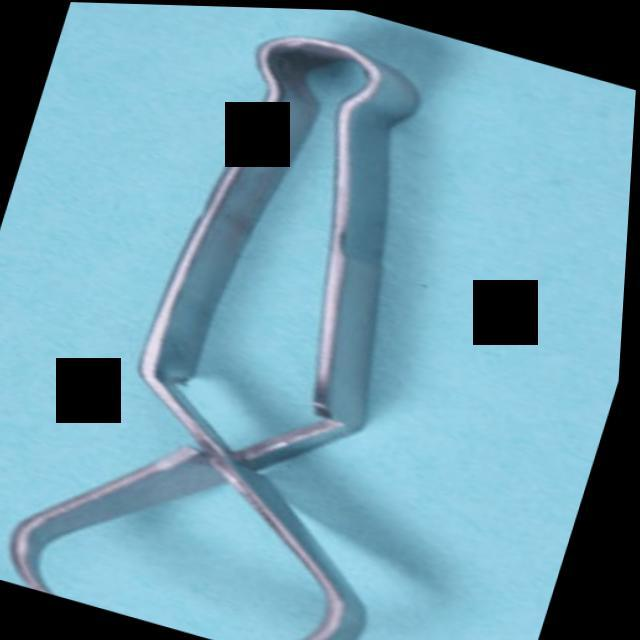Doyen Cross Action Towel Clamp: (0, 0, 535, 640)
